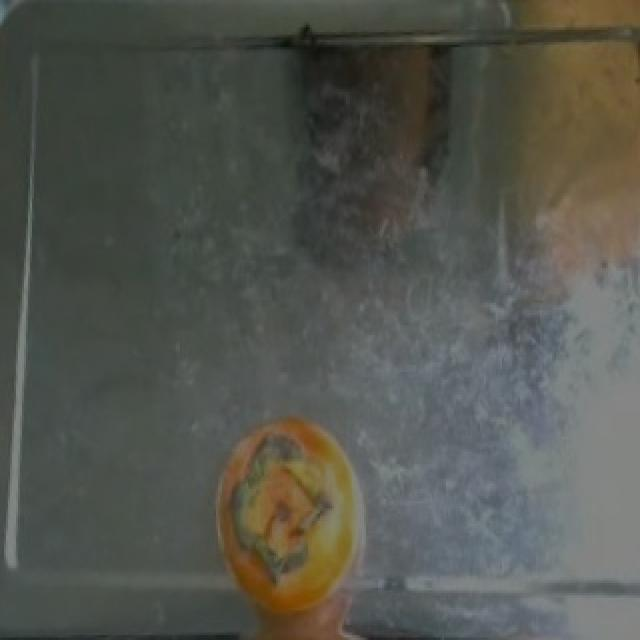Fruit: (210, 402, 374, 640), (468, 0, 640, 82)
